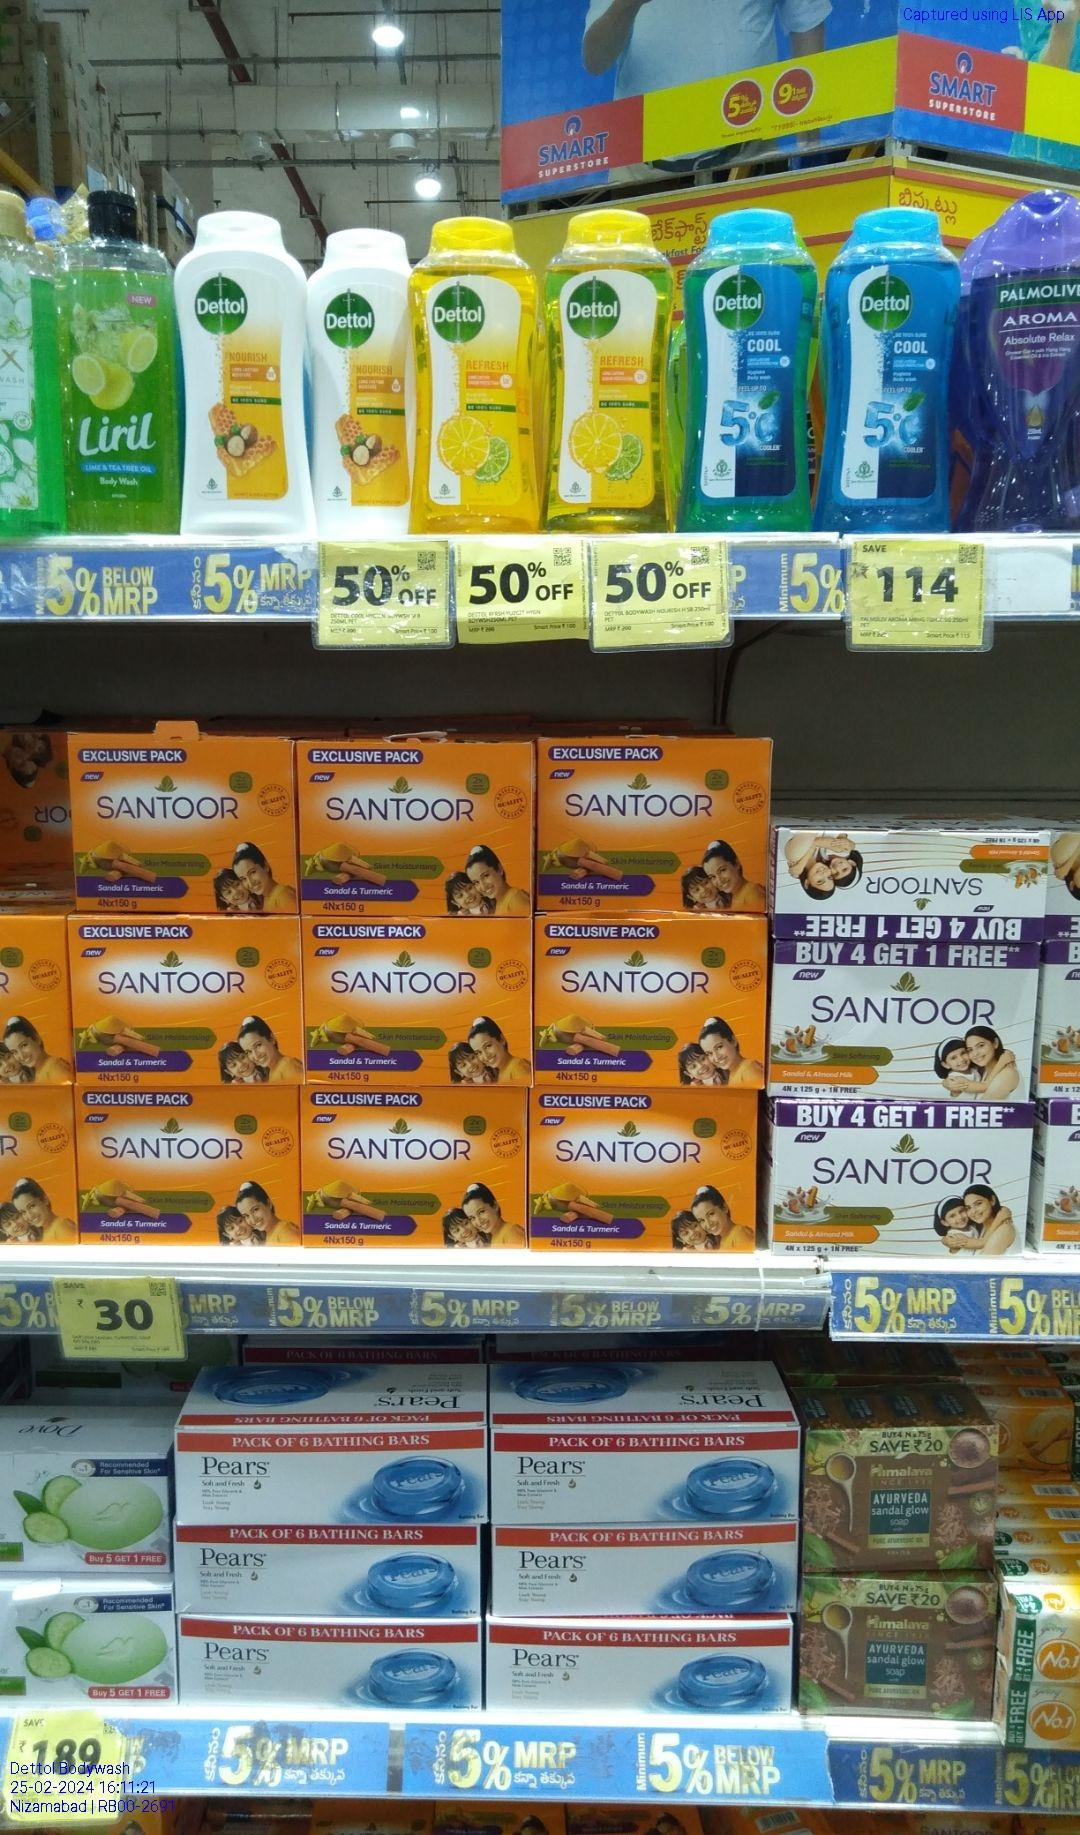Dettol_Bodywash_Cool: (824, 202, 957, 535), (687, 207, 813, 532)
Dettol_Bodywash_Refresh: (418, 216, 540, 535), (553, 209, 665, 529)
Dettol_Nourish_Body_Wash_250ML: (177, 209, 309, 532), (310, 225, 409, 540)
Liril_Lime_and_Tea_Tree_Oil_Body_Wash_250ML: (51, 189, 177, 540)
